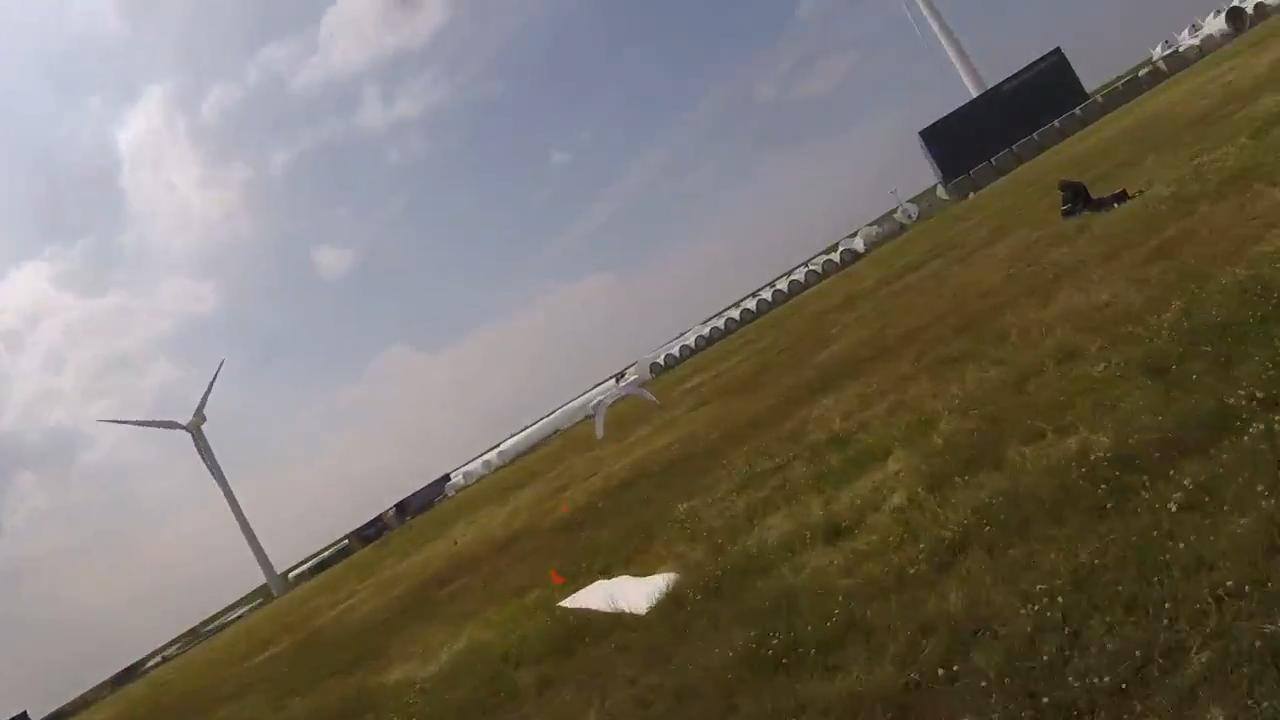gate: (589, 388, 658, 441)
